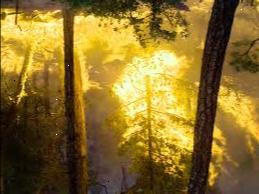fire: (74, 13, 192, 182), (0, 7, 62, 110), (207, 74, 259, 189)
